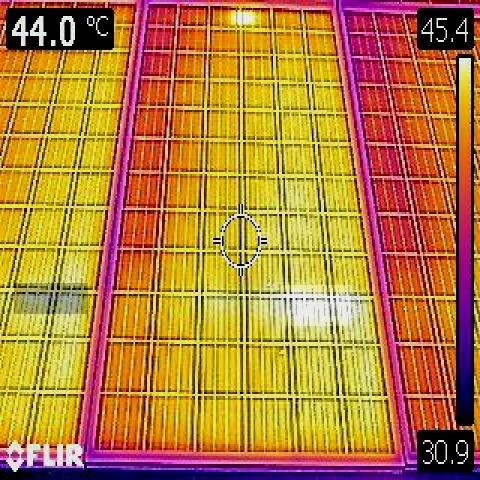fault: (283, 285, 351, 326), (14, 283, 88, 314), (232, 10, 256, 25)
